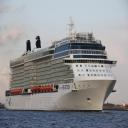cruises: (5, 16, 119, 116)
